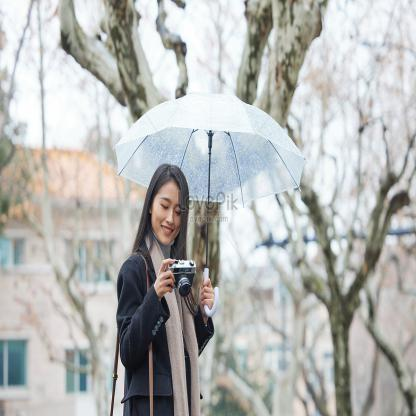Umbrella: (102, 74, 310, 318)
